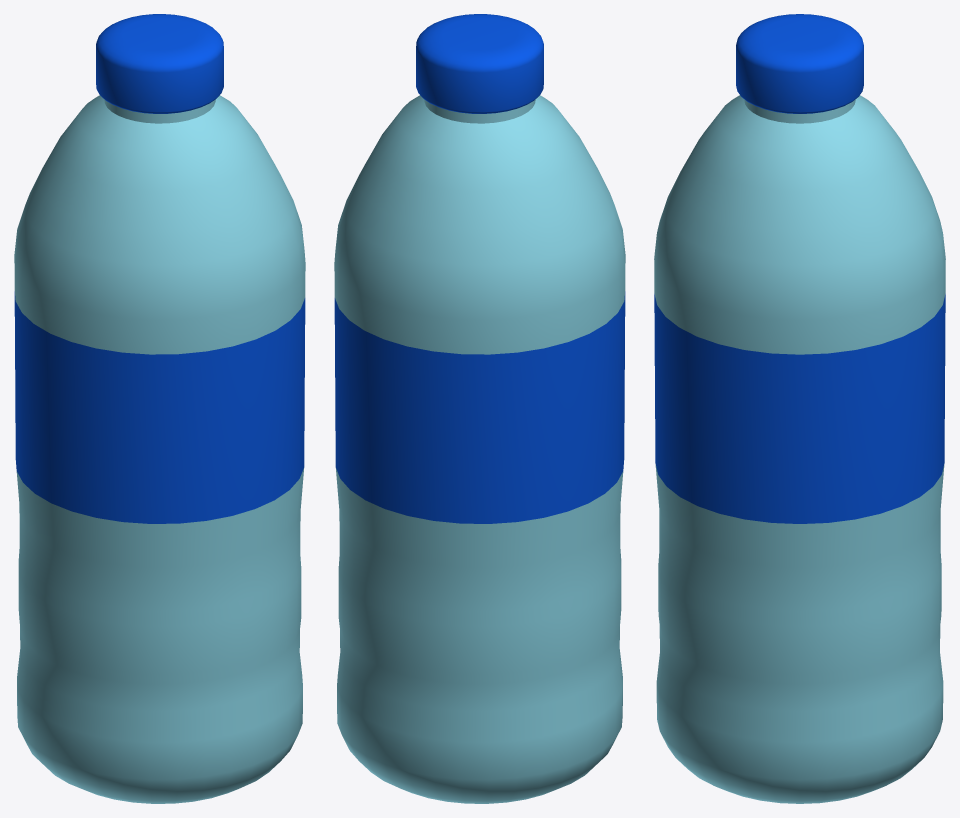
The model's file is waterbottle.fbx.
The picture shows the model from 3 angles, left to right: view 1: azimuth 30°, elevation 25°; view 2: azimuth 150°, elevation 25°; view 3: azimuth 270°, elevation 25°; orthographic projection.
Visible parts, largest first — view 1: Sphere, Cylinder; view 2: Sphere, Cylinder; view 3: Sphere, Cylinder.
Boxes of the visible parts, left/top/right/bottom form: Sphere: left=14, top=95, right=305, bottom=803; Cylinder: left=96, top=14, right=223, bottom=113; Sphere: left=334, top=95, right=625, bottom=803; Cylinder: left=416, top=14, right=543, bottom=113; Sphere: left=654, top=95, right=945, bottom=803; Cylinder: left=736, top=14, right=863, bottom=113.
Bounding box in the file's own units: 523 × 1454 × 523.
